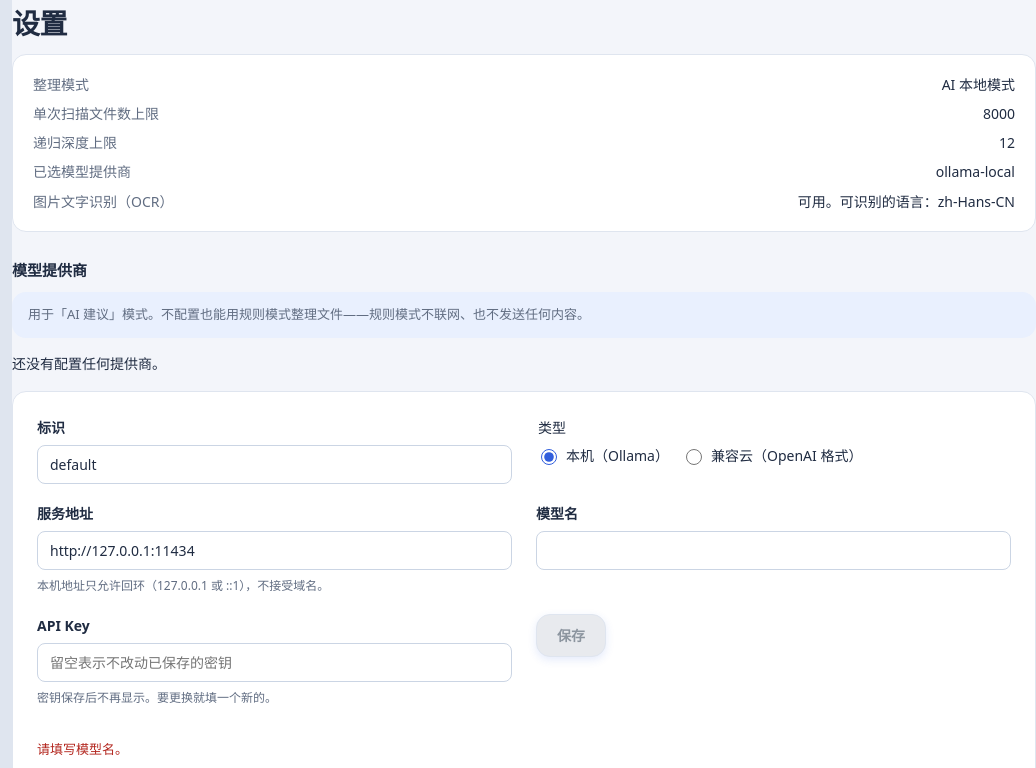
Test case: 设置页 › 地址缺协议时禁用保存并说明原因
Replace the text in the field labelled "服务地址" with "127.0.0.1:11434" at coordinates (274, 551), box [37,531,512,570]
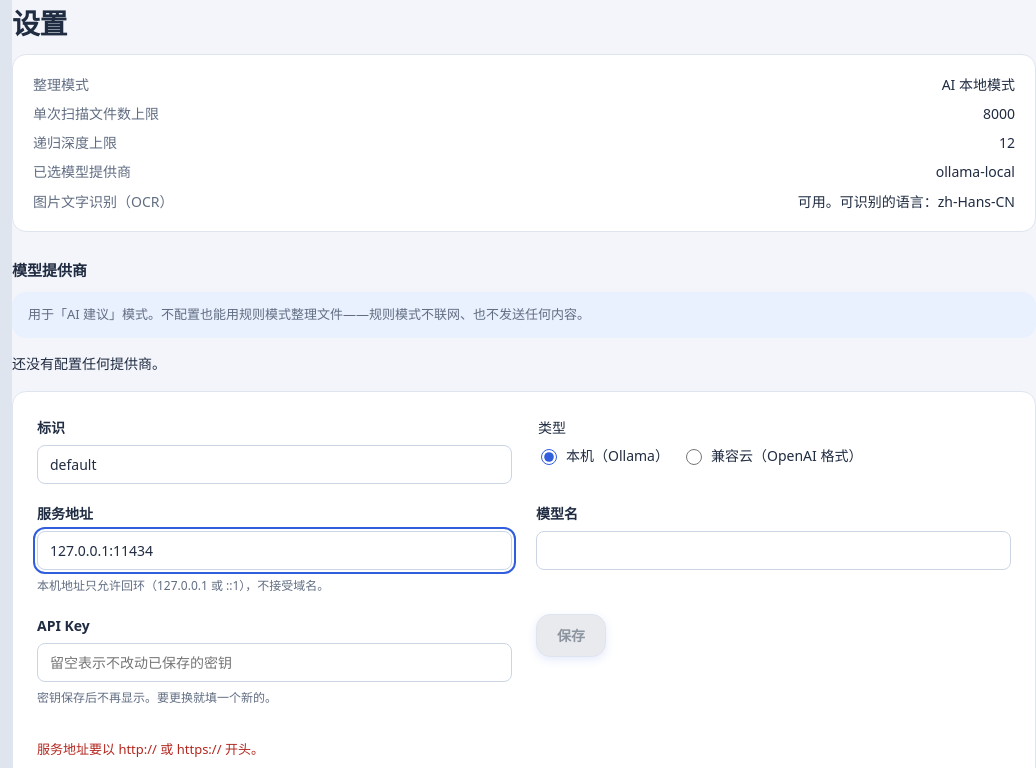
Expected: the button "保存" is disabled, [536,614,606,657]
Expected: the text "服务地址要以 http:// 或 https:// 开头。" is shown, [37,740,264,758]
